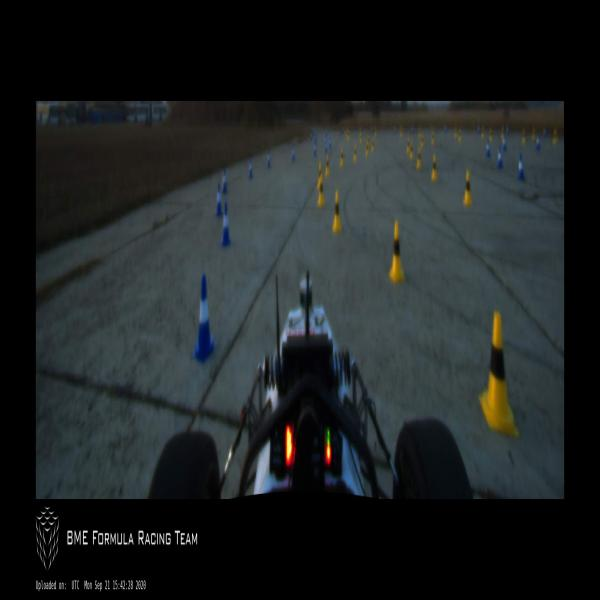blue_cone: (191, 274, 218, 364), (220, 201, 231, 247), (215, 183, 222, 216), (518, 152, 524, 180), (222, 168, 227, 193), (498, 146, 502, 168), (267, 150, 271, 167), (249, 158, 252, 177), (487, 139, 490, 157), (292, 146, 295, 160), (314, 141, 316, 156), (325, 139, 327, 152), (329, 136, 331, 149)
yellow_cone: (478, 311, 520, 438), (389, 221, 404, 284), (332, 189, 341, 234), (463, 170, 472, 206), (317, 175, 325, 206), (431, 154, 437, 181), (317, 163, 323, 189), (416, 148, 422, 168), (340, 148, 344, 167), (326, 154, 329, 177), (353, 145, 357, 161), (410, 142, 413, 159), (366, 142, 369, 156), (407, 139, 410, 152), (372, 139, 374, 152)
